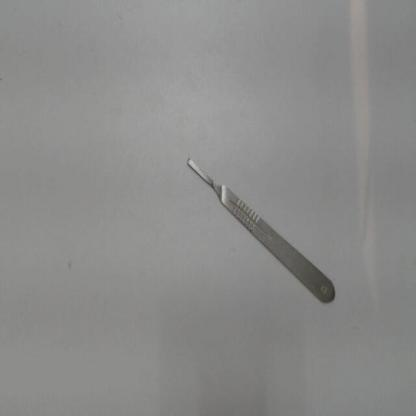No.4 BP Handle: (174, 137, 349, 321)
